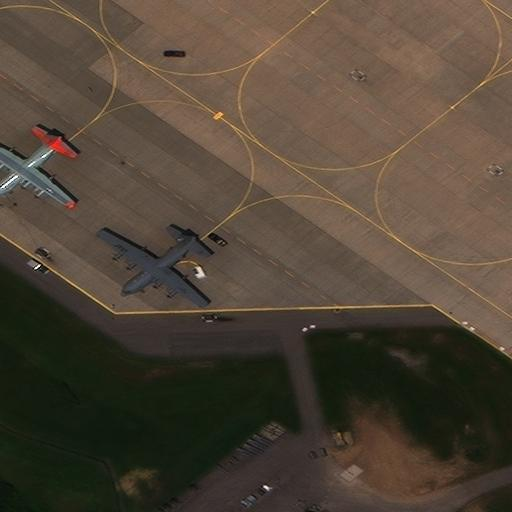Military Transport: (95, 234, 201, 307), (0, 135, 67, 207)
